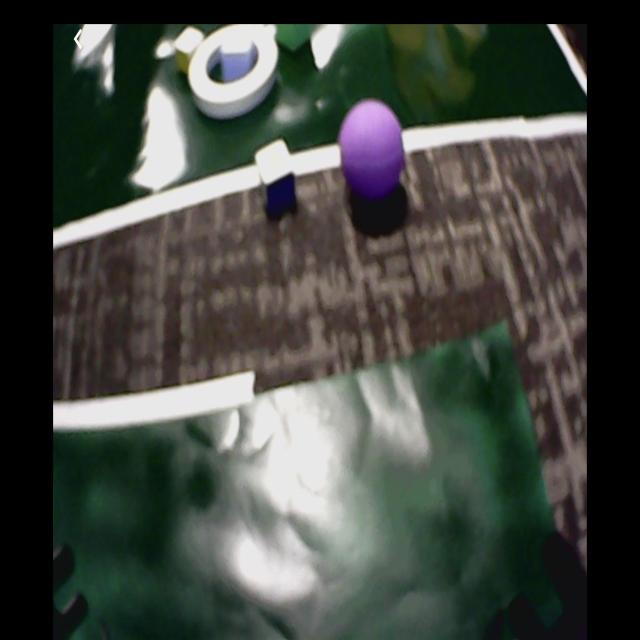ball: (340, 102, 405, 204)
